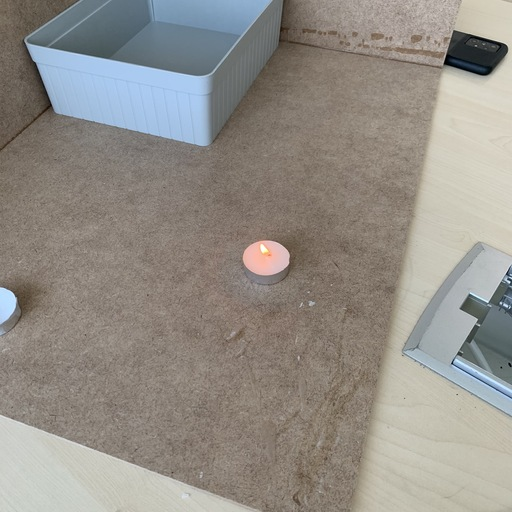fire: (257, 245, 271, 257)
